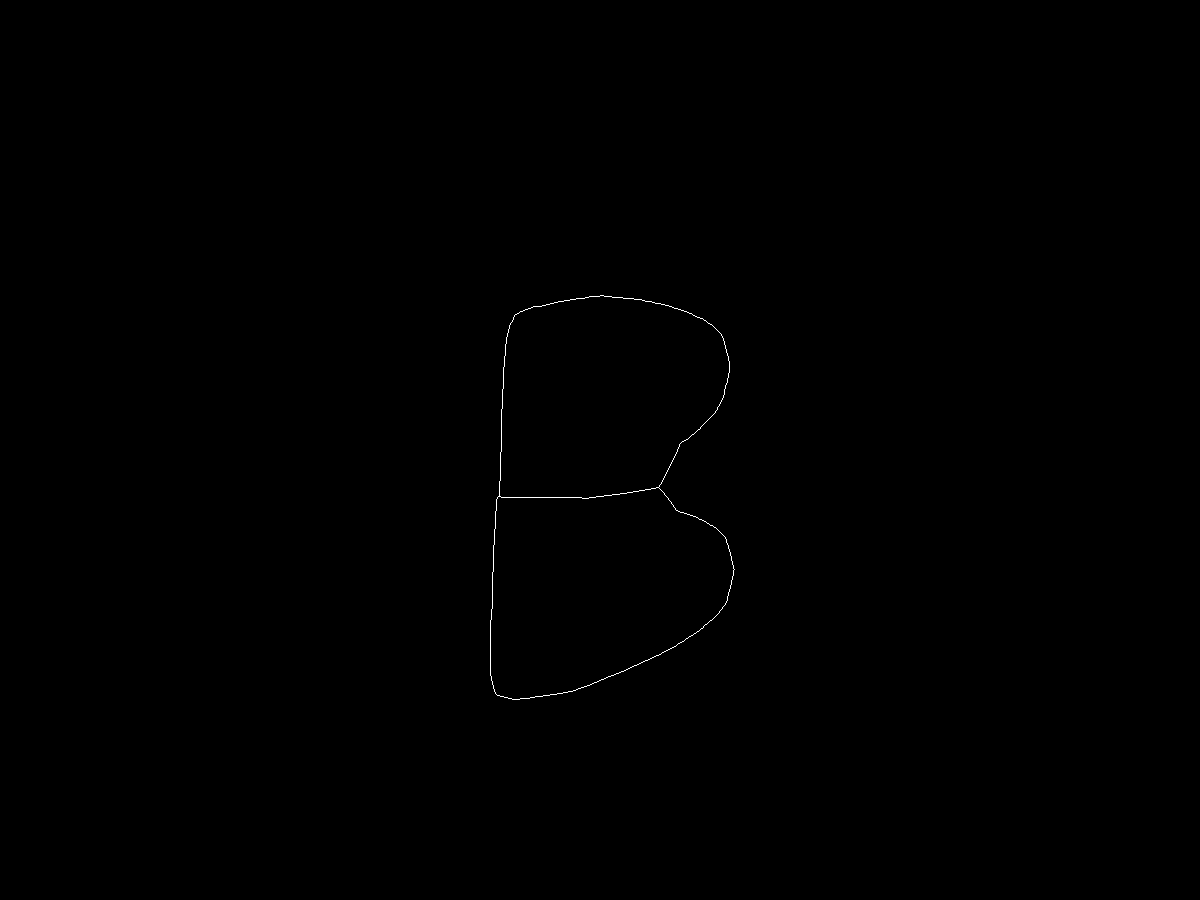dian1: (512, 304, 533, 325)
dian2: (487, 486, 507, 506)
dian3: (476, 680, 500, 704)
dian4: (655, 479, 675, 499)
